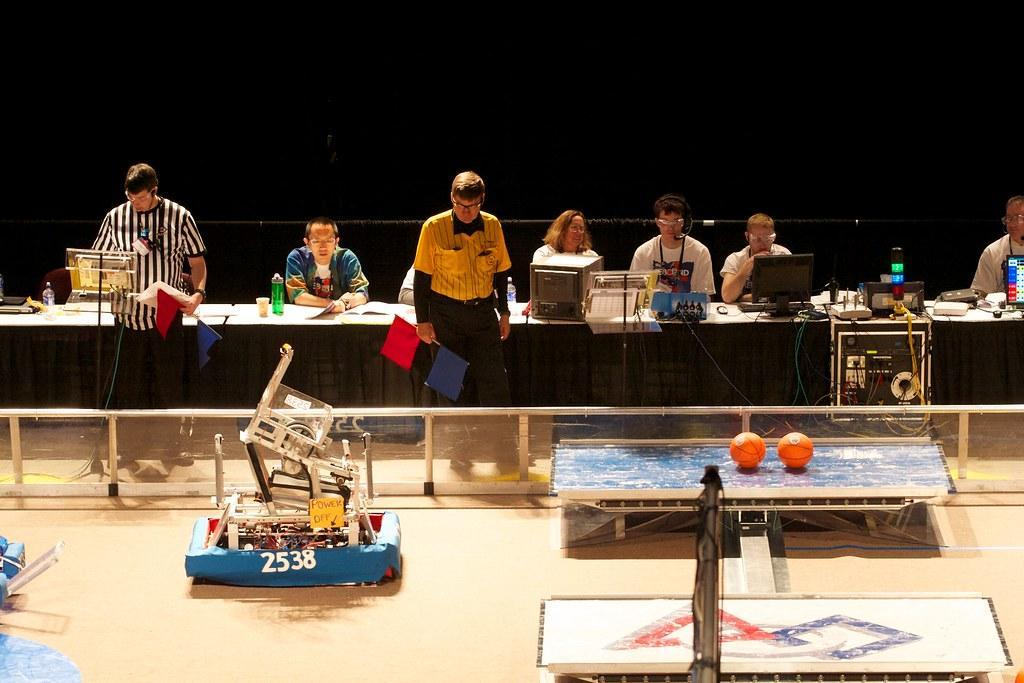robot: (179, 341, 404, 587), (0, 540, 29, 599)
